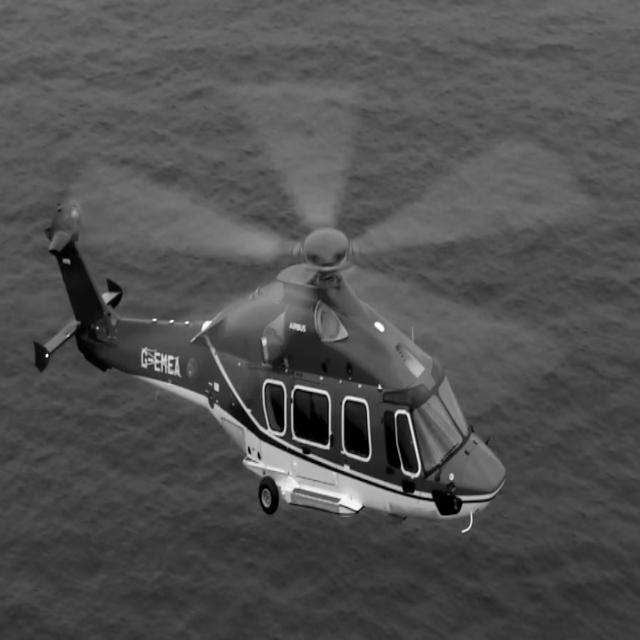helicopter: (1, 77, 543, 603)
